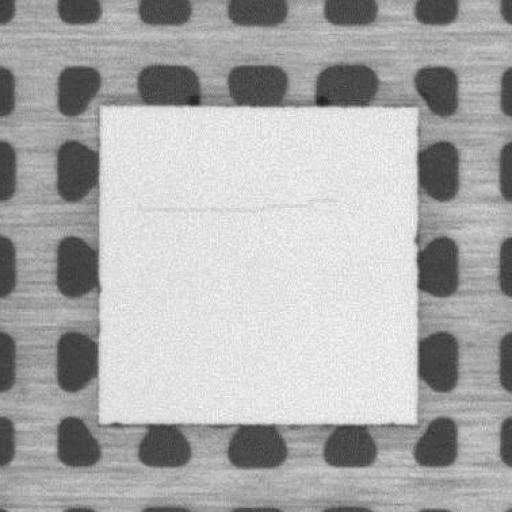DIE_CRACK: (135, 193, 347, 214)
